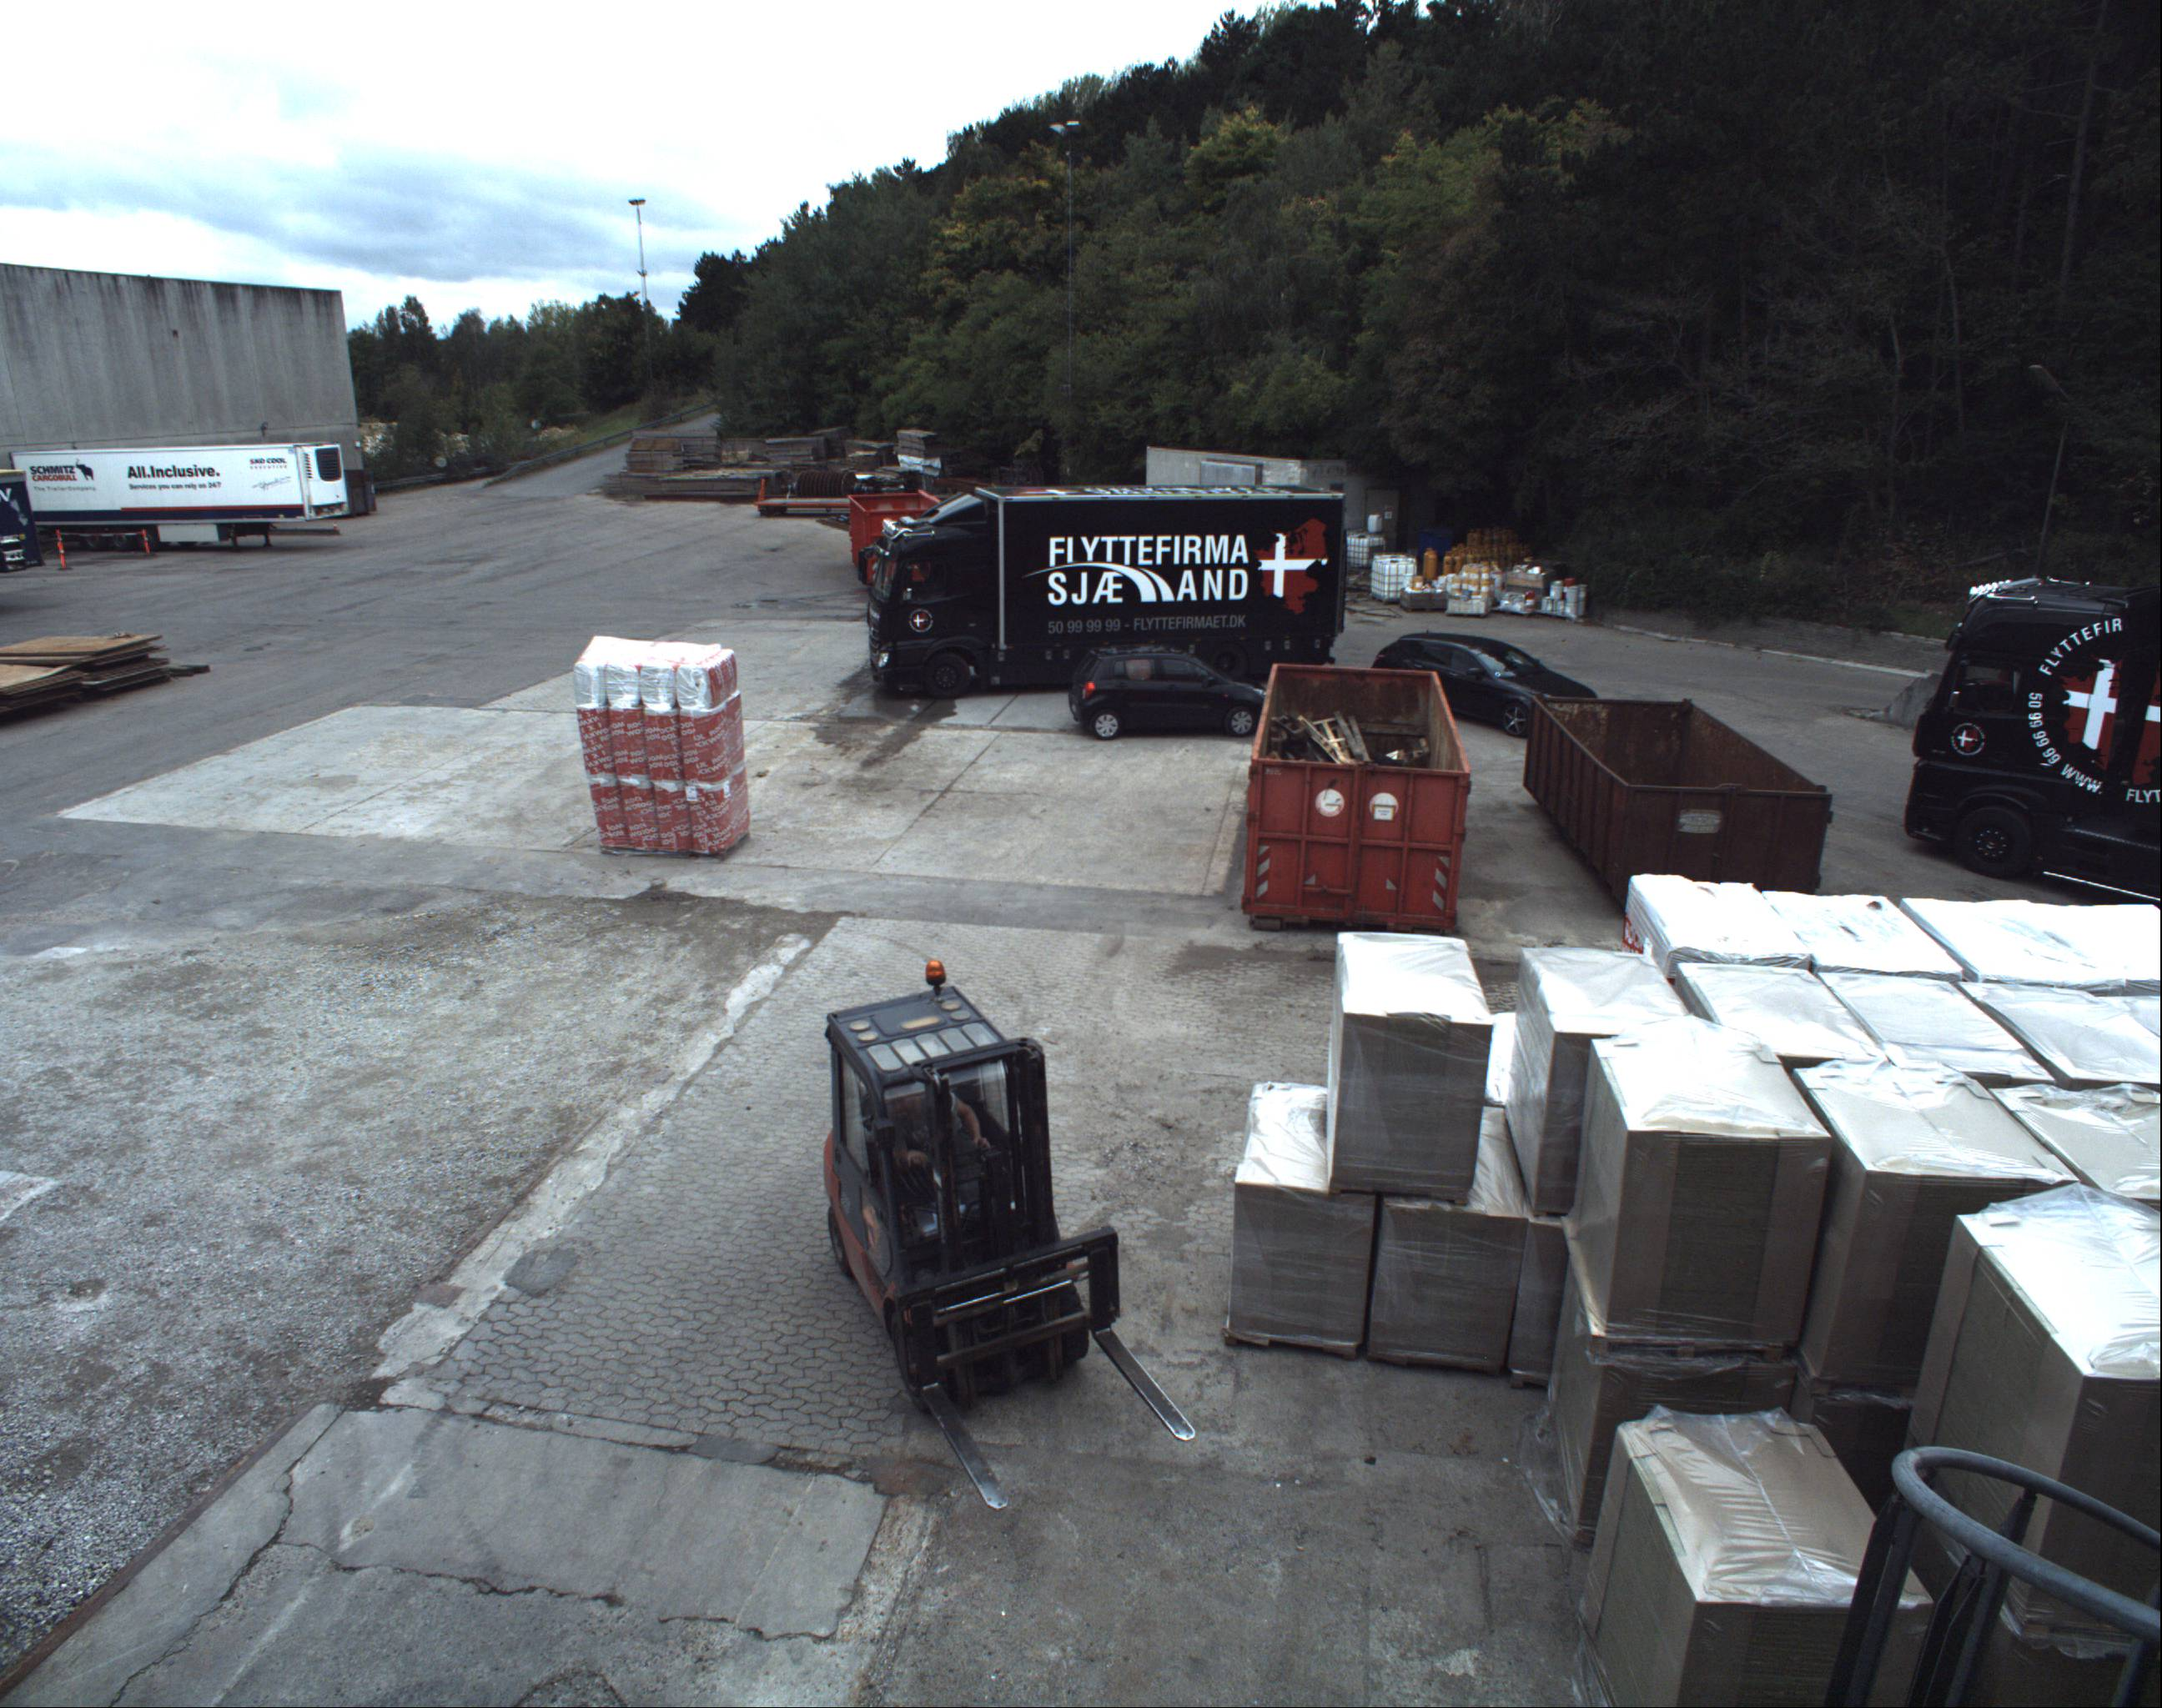rockwool_batts: (572, 621, 753, 851)
